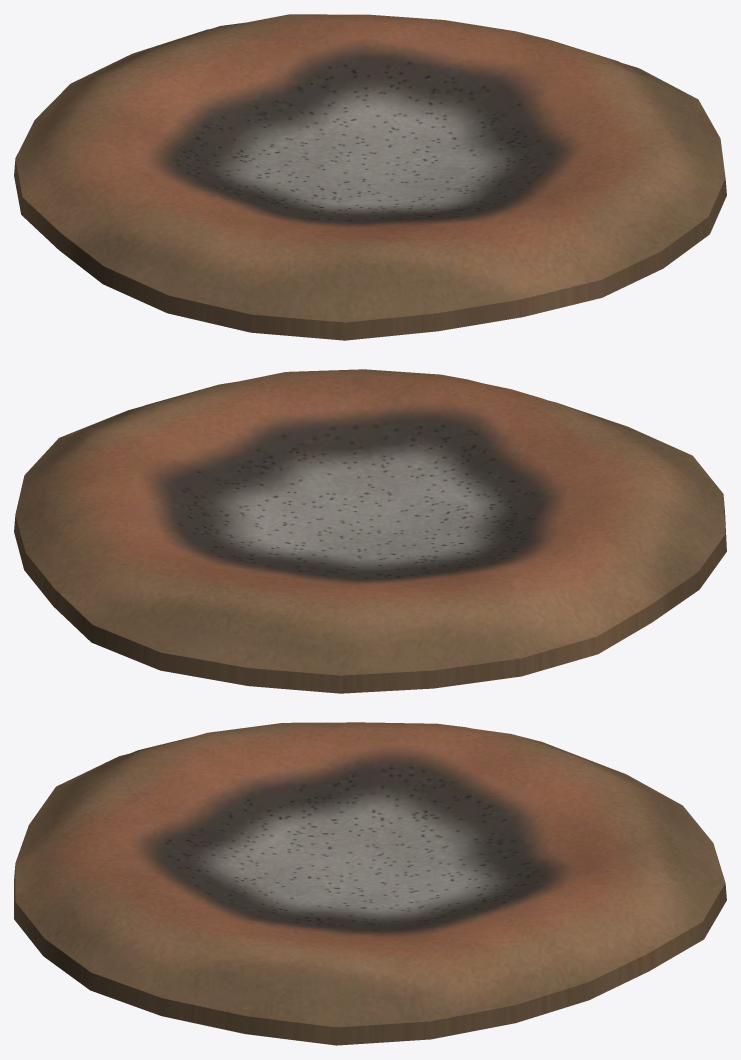
File: hearth_base.glb
3 renders of one model, top to bottom at view 1: azimuth 30°, elevation 25°; view 2: azimuth 150°, elevation 25°; view 3: azimuth 270°, elevation 25°, orthographic.
Visible parts, largest first — view 1: HEARTH_BASE; view 2: HEARTH_BASE; view 3: HEARTH_BASE.
Boxes of the visible parts, x1,y1,x2,y2 form: HEARTH_BASE: (14, 14, 726, 340); HEARTH_BASE: (14, 369, 726, 693); HEARTH_BASE: (14, 722, 726, 1045).
Size of the model in its own units: 1.19 by 0.0956 by 1.19.
Materials: 1 (1 with a texture image).
